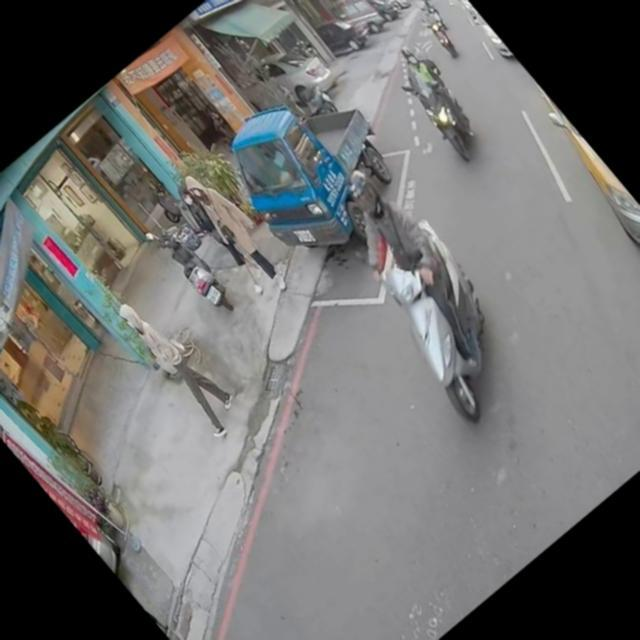person: (306, 149, 523, 387), (108, 282, 250, 440), (171, 160, 297, 300), (166, 172, 279, 300), (381, 38, 488, 156), (411, 0, 443, 33), (414, 0, 435, 14)
